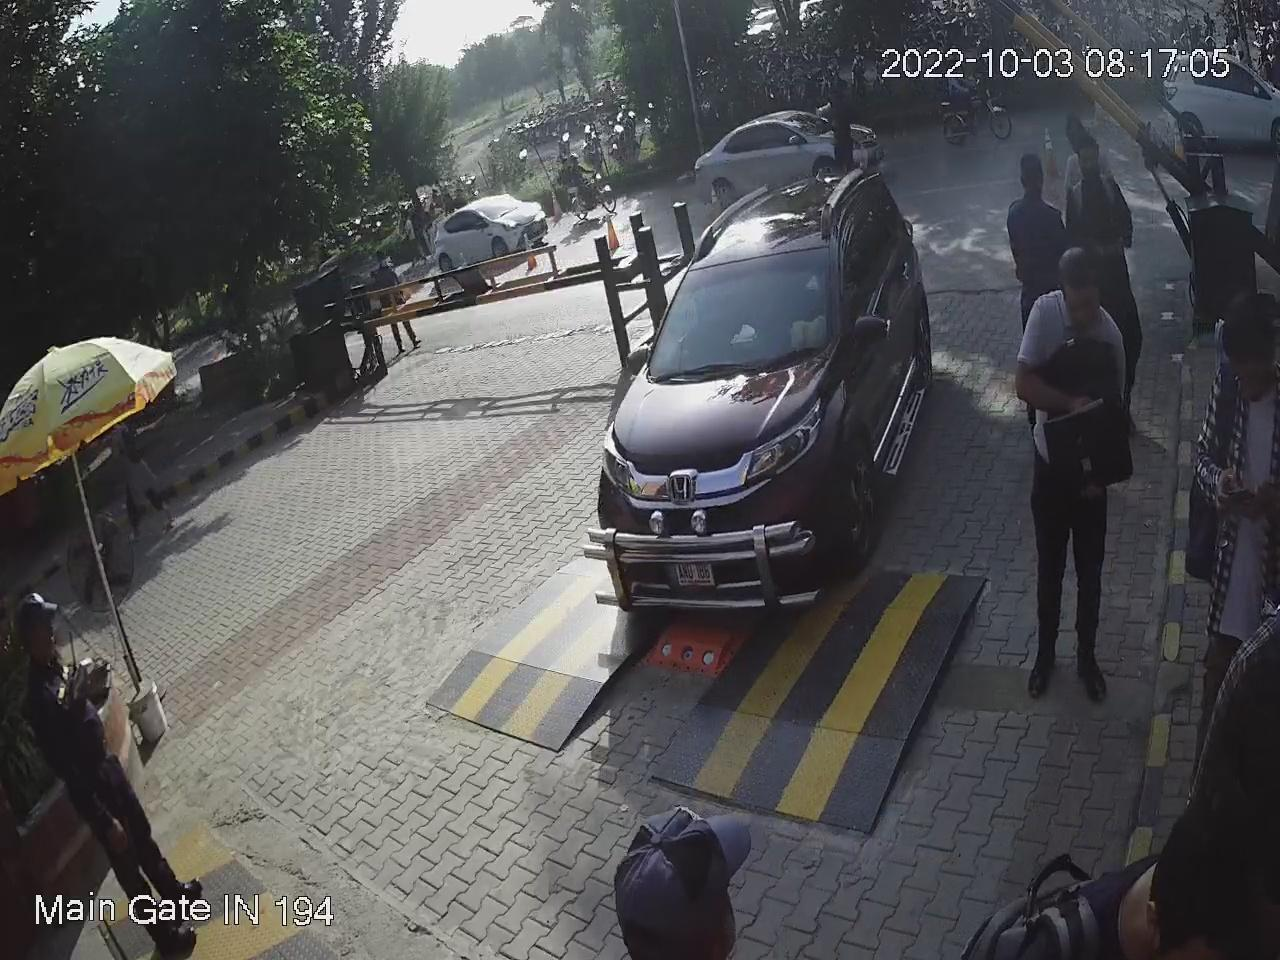windshield: (638, 233, 836, 385)
